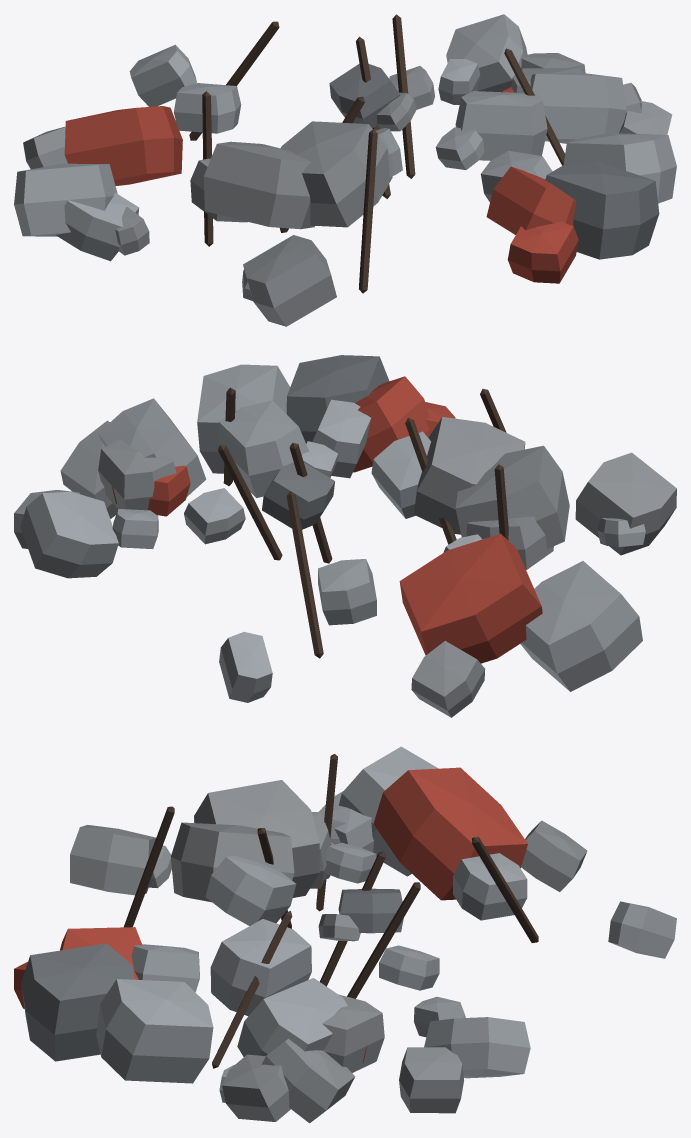
The model's file is s-rubble-1.glb.
3 renders of one model, top to bottom at view 1: azimuth 30°, elevation 25°; view 2: azimuth 150°, elevation 25°; view 3: azimuth 270°, elevation 25°, orthographic. The views are drawn at different scales.
Parts seen in each view (by area): view 1: p; view 2: p; view 3: p.
Part boxes in pixels (x1,y1,x2,y2): p: (14, 14, 676, 326); p: (14, 355, 676, 717); p: (14, 746, 676, 1123).
Bounding box in the file's own units: 3.7 × 0.9161 × 3.36.
